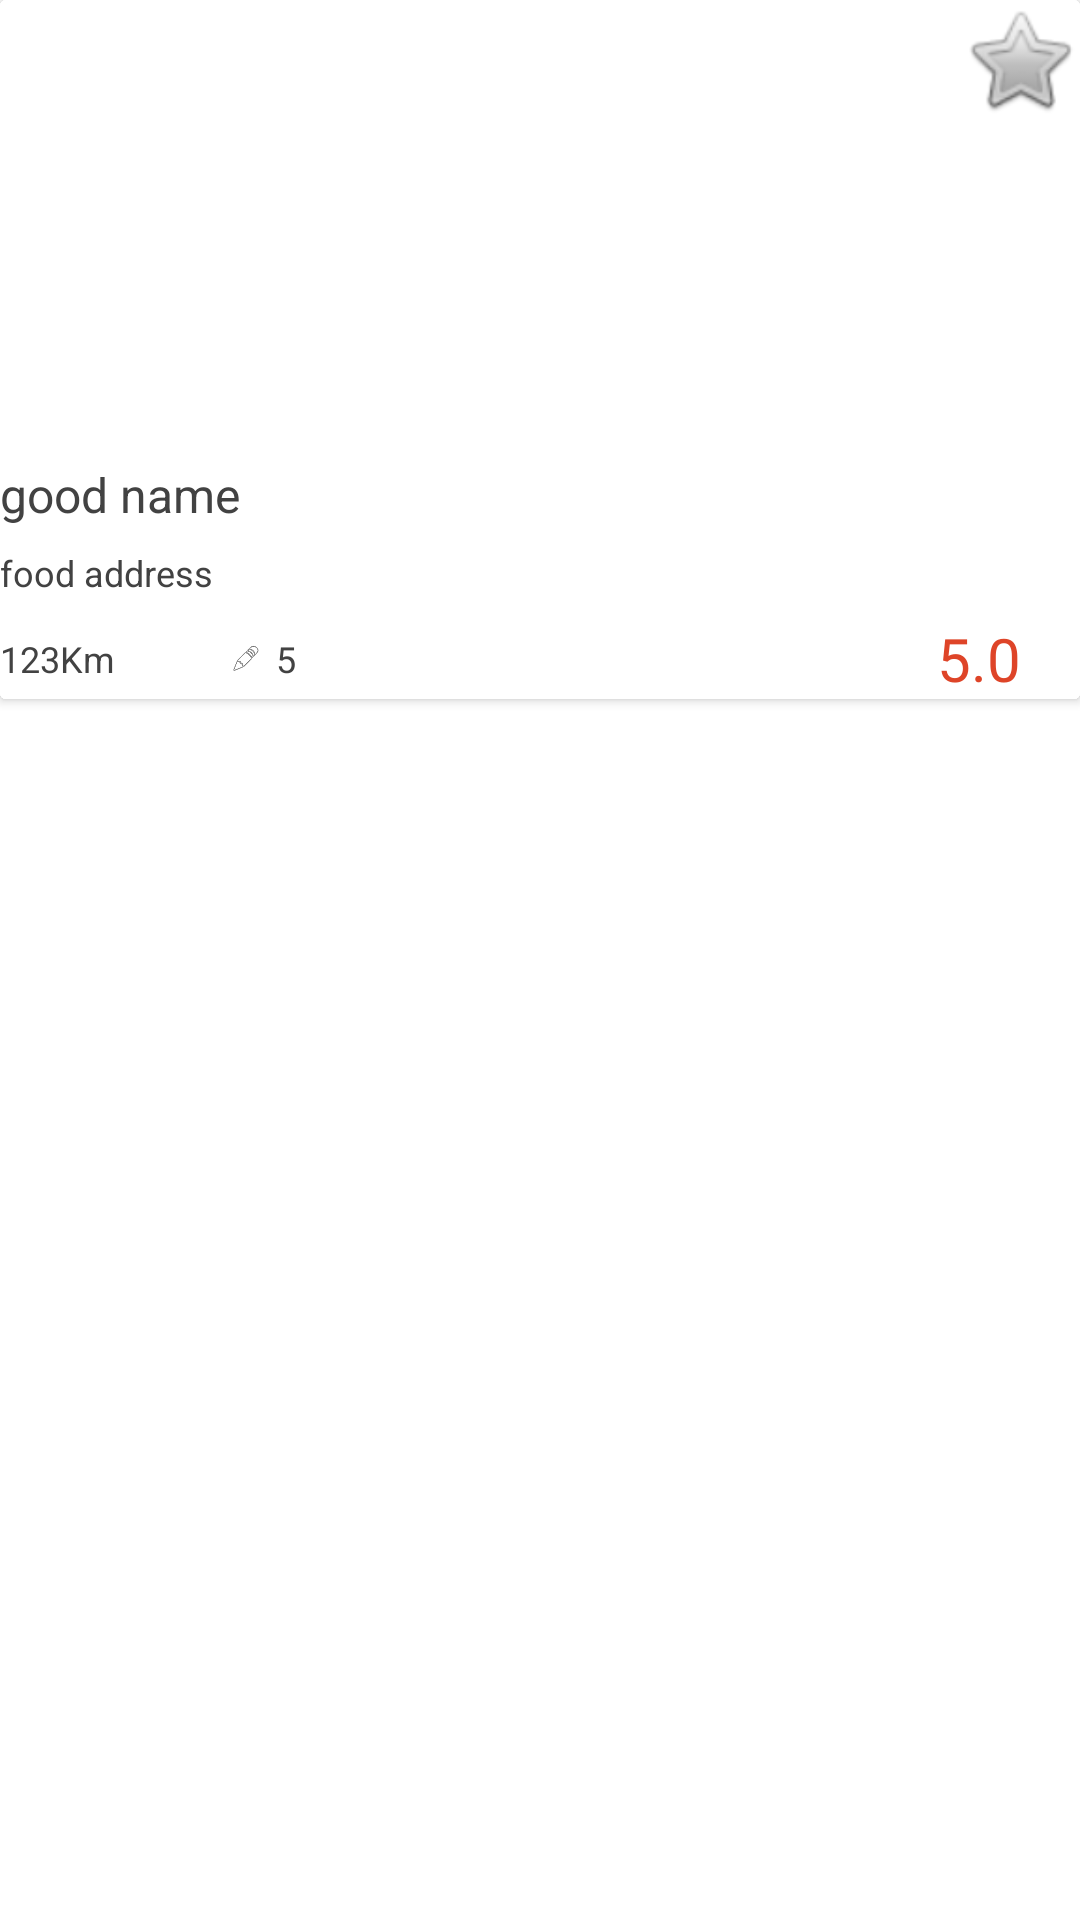

Point at icon controls on the screen. Image size 1080 × 1920, points as (x,y).
edit: (246,658)
star off: (1025,56)
